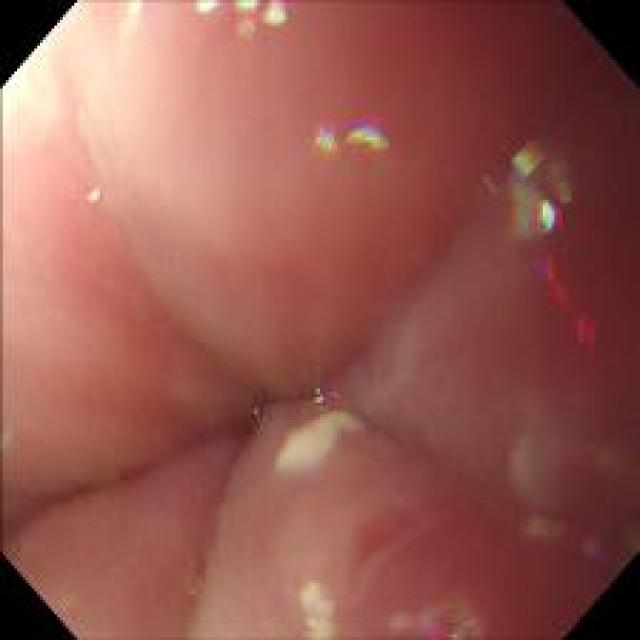blur: (42, 225, 505, 612)
color misalignment: (490, 110, 612, 364), (296, 109, 401, 171), (188, 1, 298, 50), (572, 528, 619, 576), (308, 368, 349, 409), (116, 0, 144, 34), (239, 394, 268, 424)
saturation: (8, 16, 90, 142)
specularity: (118, 1, 144, 34)
